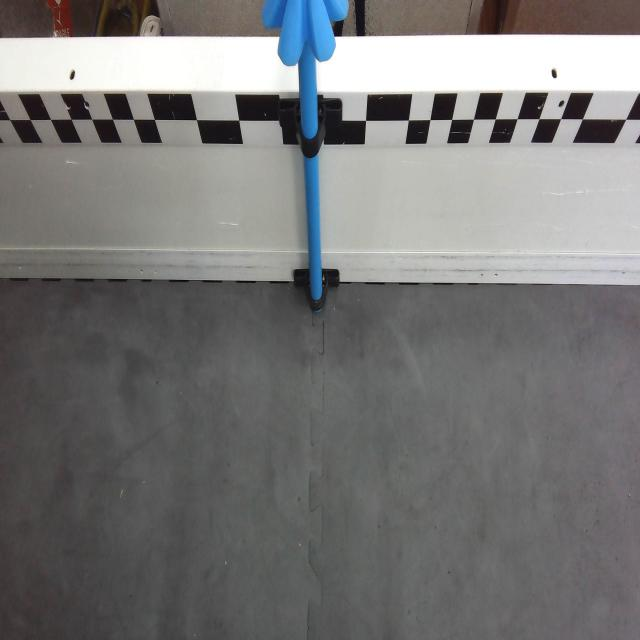zblue-Stake-Head: (262, 0, 348, 66)
